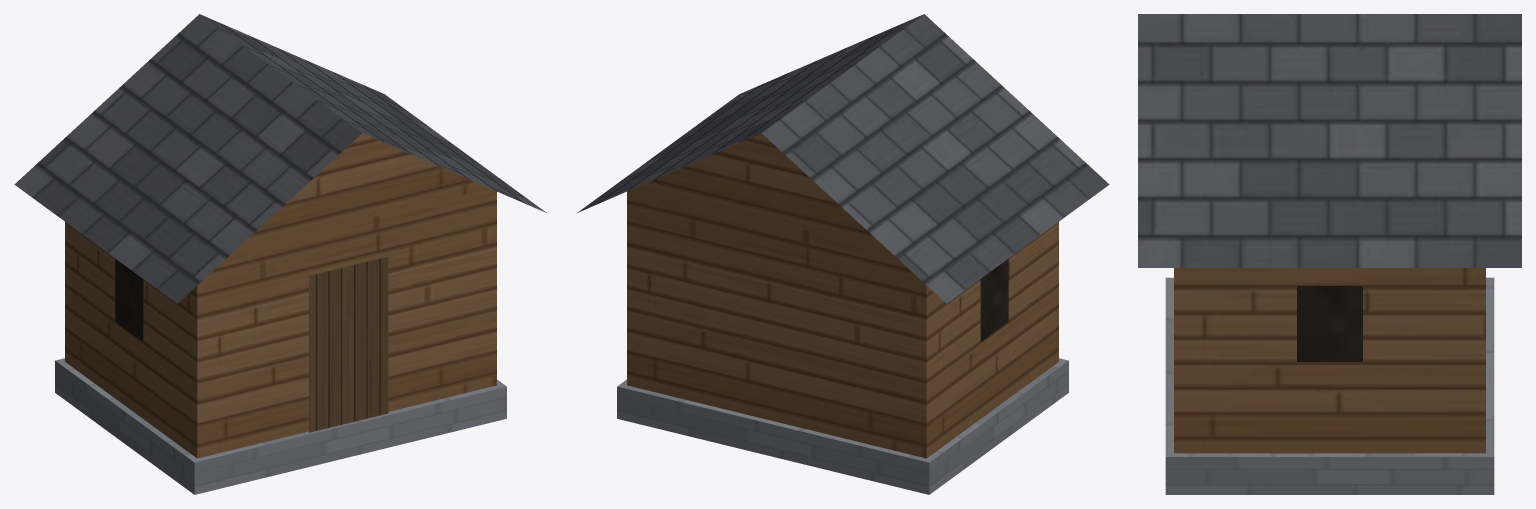
File: ae_snow_wood_small_booth_lod2.glb
3 renders of one model, left to right at view 1: azimuth 30°, elevation 25°; view 2: azimuth 150°, elevation 25°; view 3: azimuth 270°, elevation 25°, orthographic. The views are drawn at different scales.
Parts seen in each view (by area): view 1: ae_snow_wood_small_booth_lod2; view 2: ae_snow_wood_small_booth_lod2; view 3: ae_snow_wood_small_booth_lod2.
Part boxes in pixels (x1,y1,x2,y2): ae_snow_wood_small_booth_lod2: (14, 14, 546, 494); ae_snow_wood_small_booth_lod2: (577, 14, 1109, 494); ae_snow_wood_small_booth_lod2: (1138, 14, 1521, 494).
Bounding box in the file's own units: 4.2 × 3.6 × 3.2.
1 material, 1 textured.
